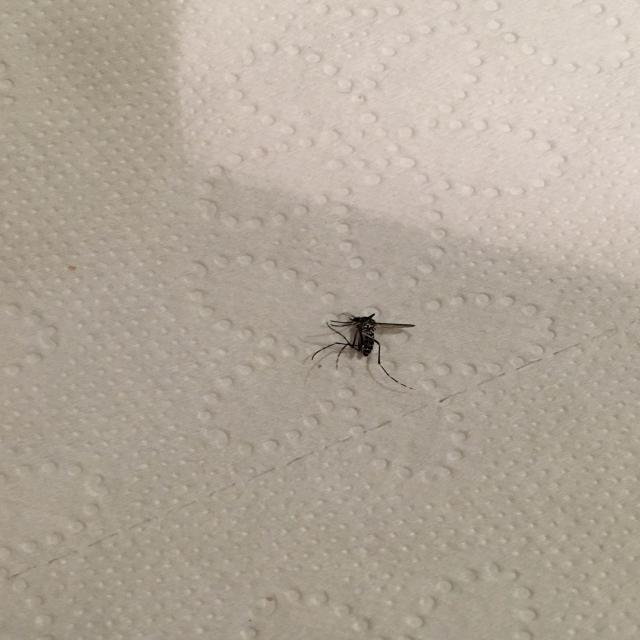albopictus: (306, 304, 422, 390)
